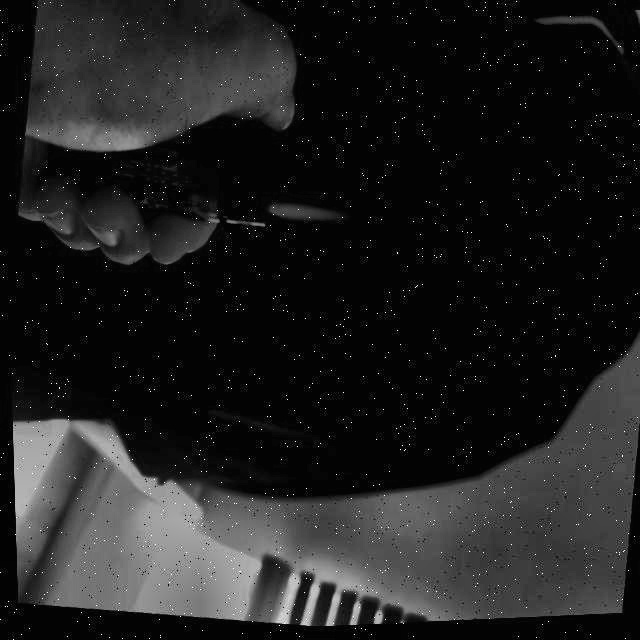Fire: (270, 194, 366, 238)
